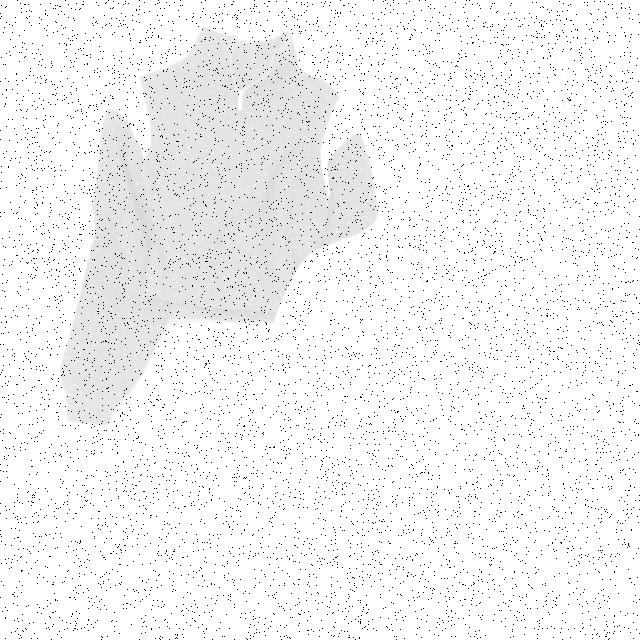Blouse_deep: (251, 207, 583, 618), (64, 27, 384, 434)
